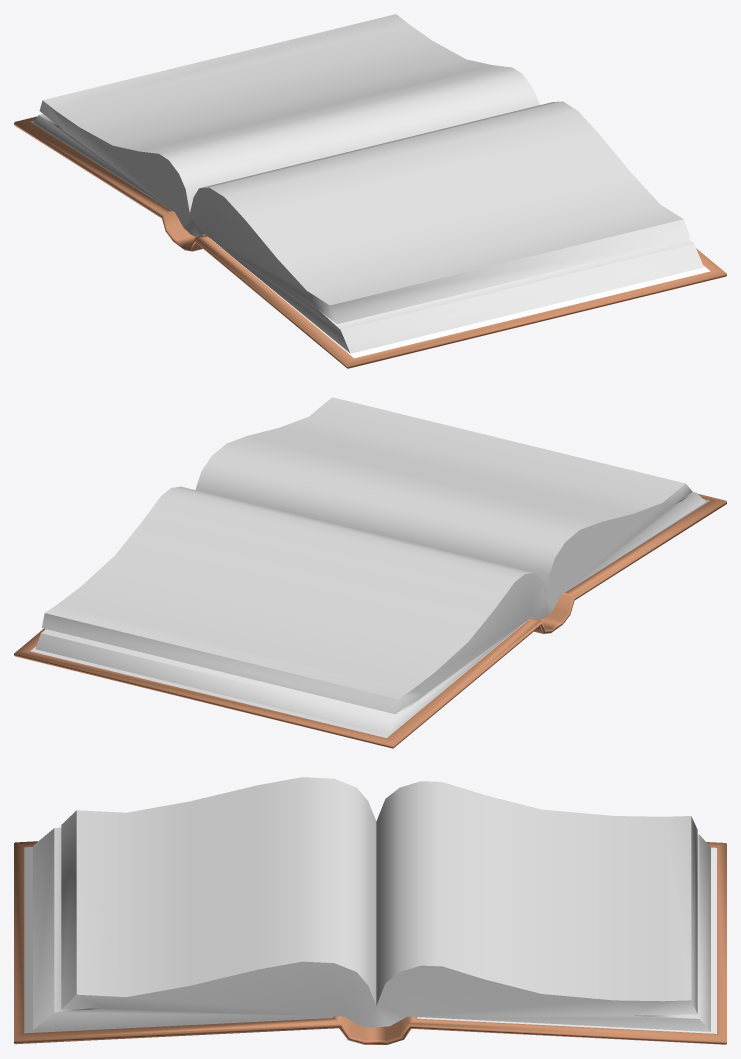
Rendered from book.fbx.
3 renders of one model, top to bottom at view 1: azimuth 30°, elevation 25°; view 2: azimuth 150°, elevation 25°; view 3: azimuth 270°, elevation 25°, orthographic. The views are drawn at different scales.
Visible parts, largest first — view 1: 0.001, 1, 1.001; view 2: 0.001, 1, 1.001; view 3: 0.001, 1, 1.001.
Boxes of the visible parts, <box> form: 0.001: <box>33,14,703,353</box>; 1: <box>14,116,726,368</box>; 1.001: <box>30,120,710,358</box>; 0.001: <box>35,397,705,735</box>; 1: <box>14,494,726,748</box>; 1.001: <box>30,498,710,737</box>; 0.001: <box>33,777,710,1031</box>; 1: <box>14,841,726,1044</box>; 1.001: <box>24,847,716,1033</box>.
Bounding box in the file's own units: 32.31 × 5.82 × 49.18.
